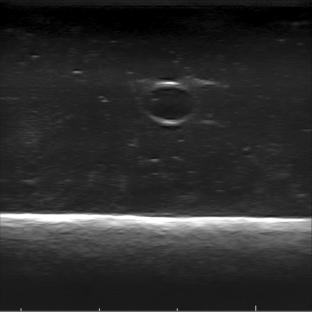vessel: (140, 80, 198, 126)
